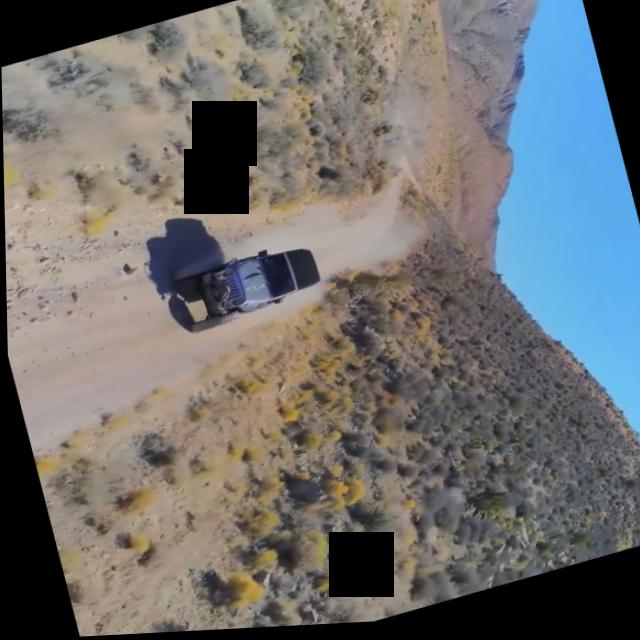Vehicle: (167, 234, 329, 341)
